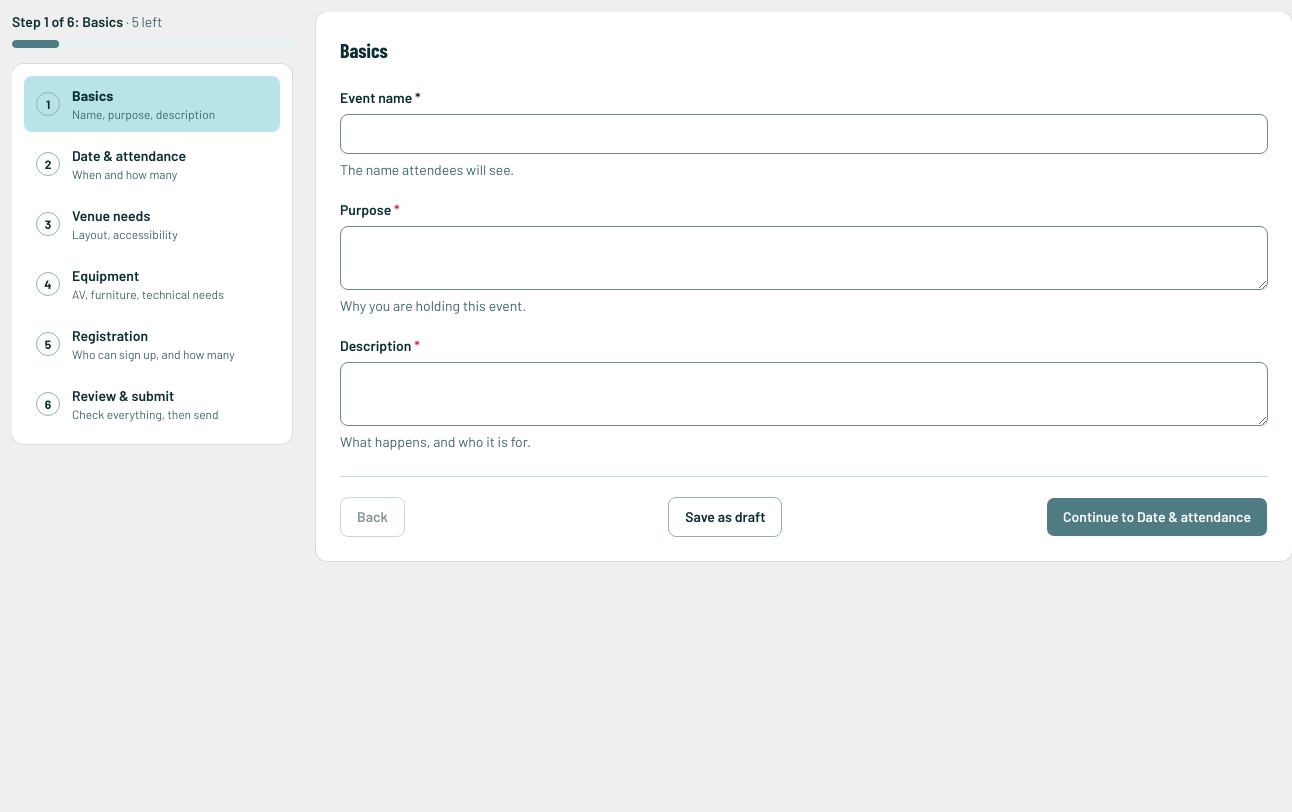
SCRUM-123/AC2 required field validation › shows an inline error and helper text beside an empty field and stays on the step
Click the button "Continue to Date & attendance". click: (1157, 517)
box: [1046,497,1268,537]
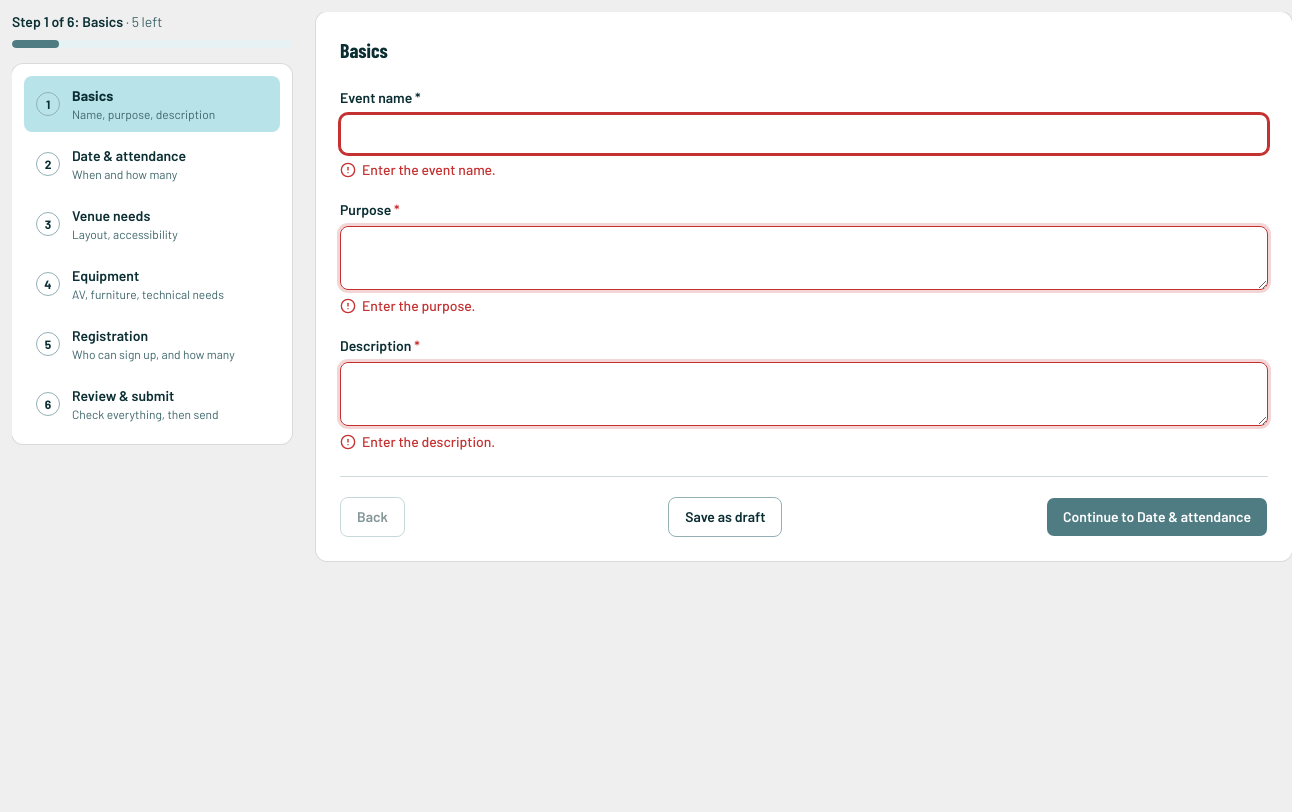
Expected: the text "Step 1 of 6: Basics · 5 left" is shown, [12,13,162,30]
Expected: the text "Enter the event name." is shown, [340,161,496,178]
Expected: the text "The name attendees will see." is gone
